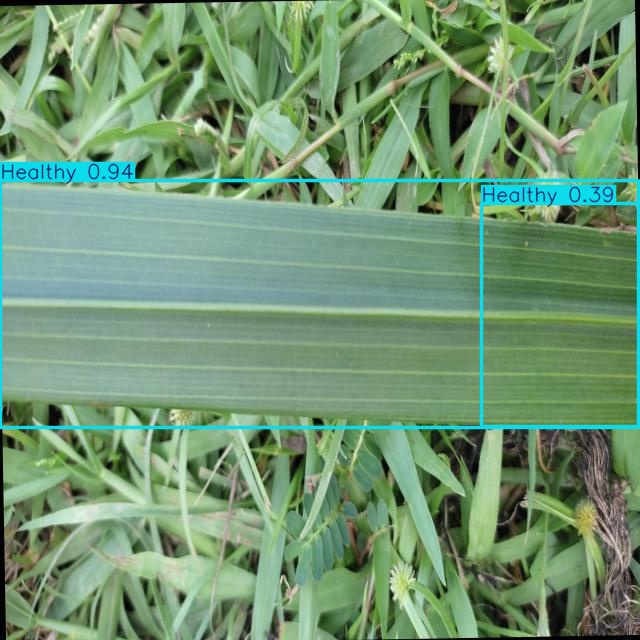Healthy: (0, 181, 639, 428), (482, 204, 640, 427)
